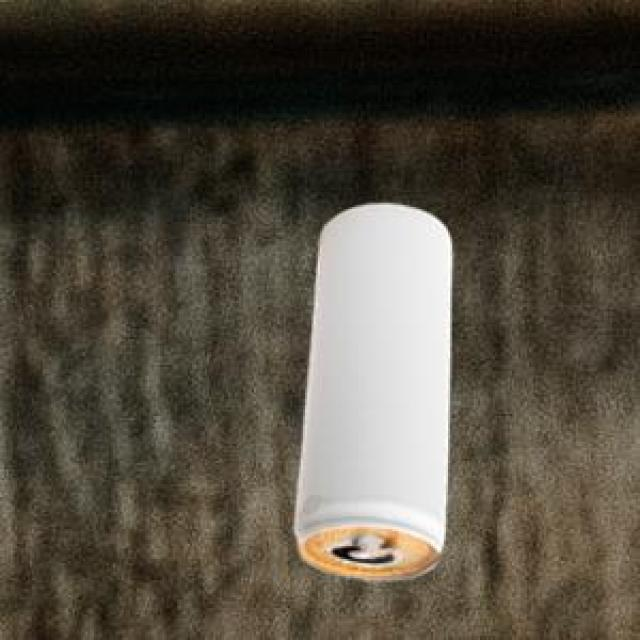logam: (291, 202, 449, 577)
